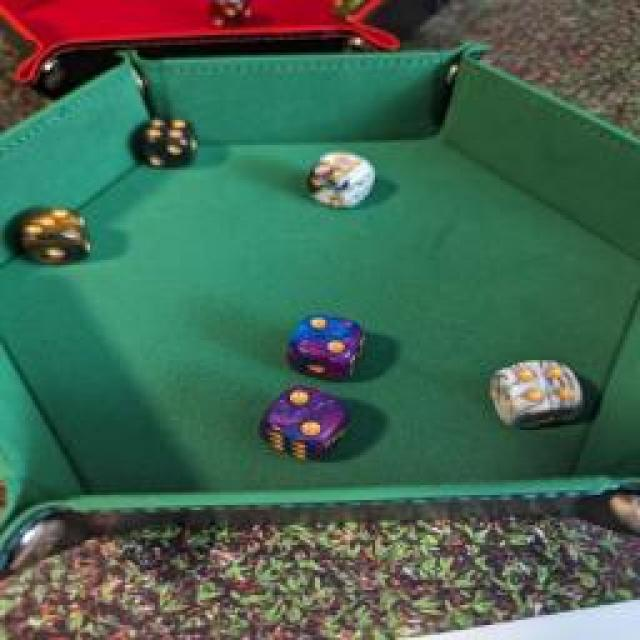dice_2: (254, 384, 358, 464), (286, 312, 369, 382)
dice_3: (18, 202, 100, 268)
dice_4: (490, 354, 590, 431), (134, 112, 201, 168)
dice_6: (299, 145, 381, 210)
